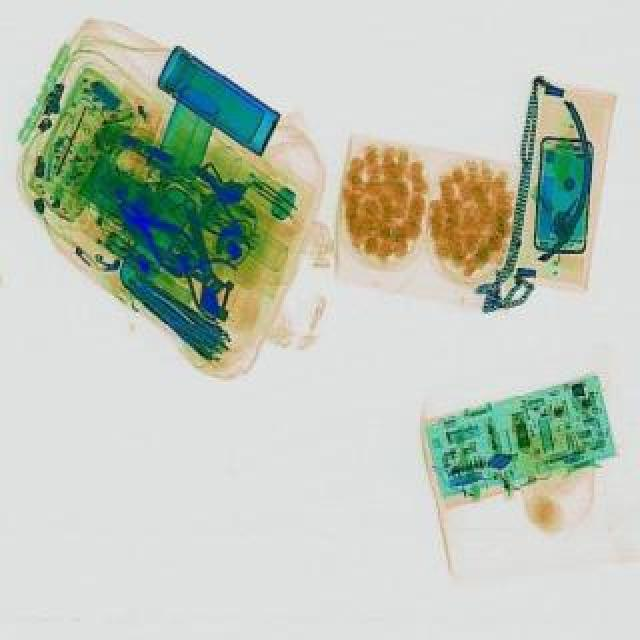scissors: (174, 196, 238, 322)
wrench: (102, 188, 210, 284), (154, 238, 262, 334)
